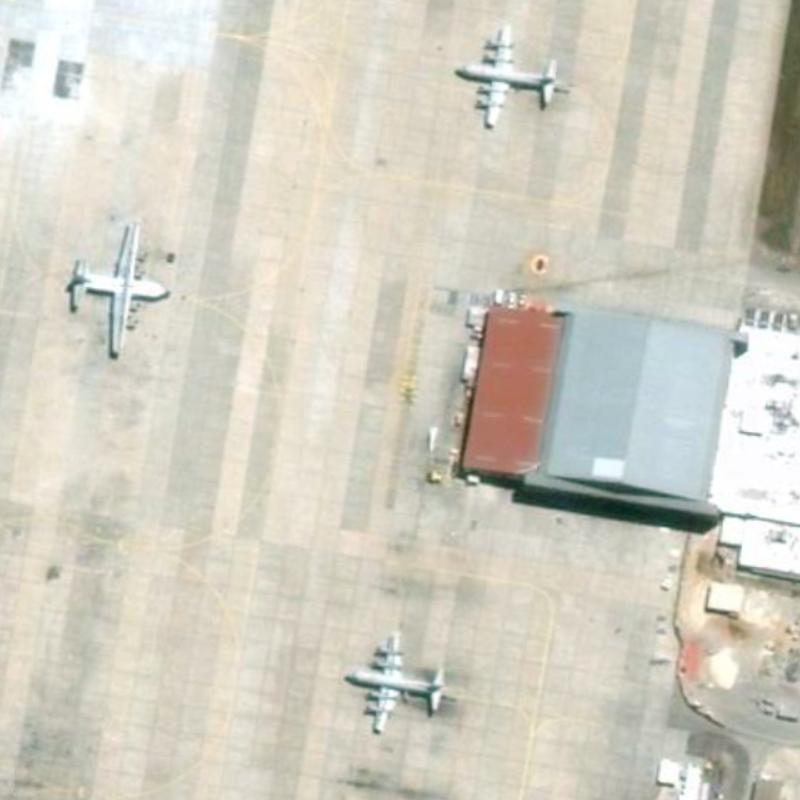A2: (61, 215, 175, 366)
A9: (445, 13, 572, 136), (330, 628, 457, 740)
